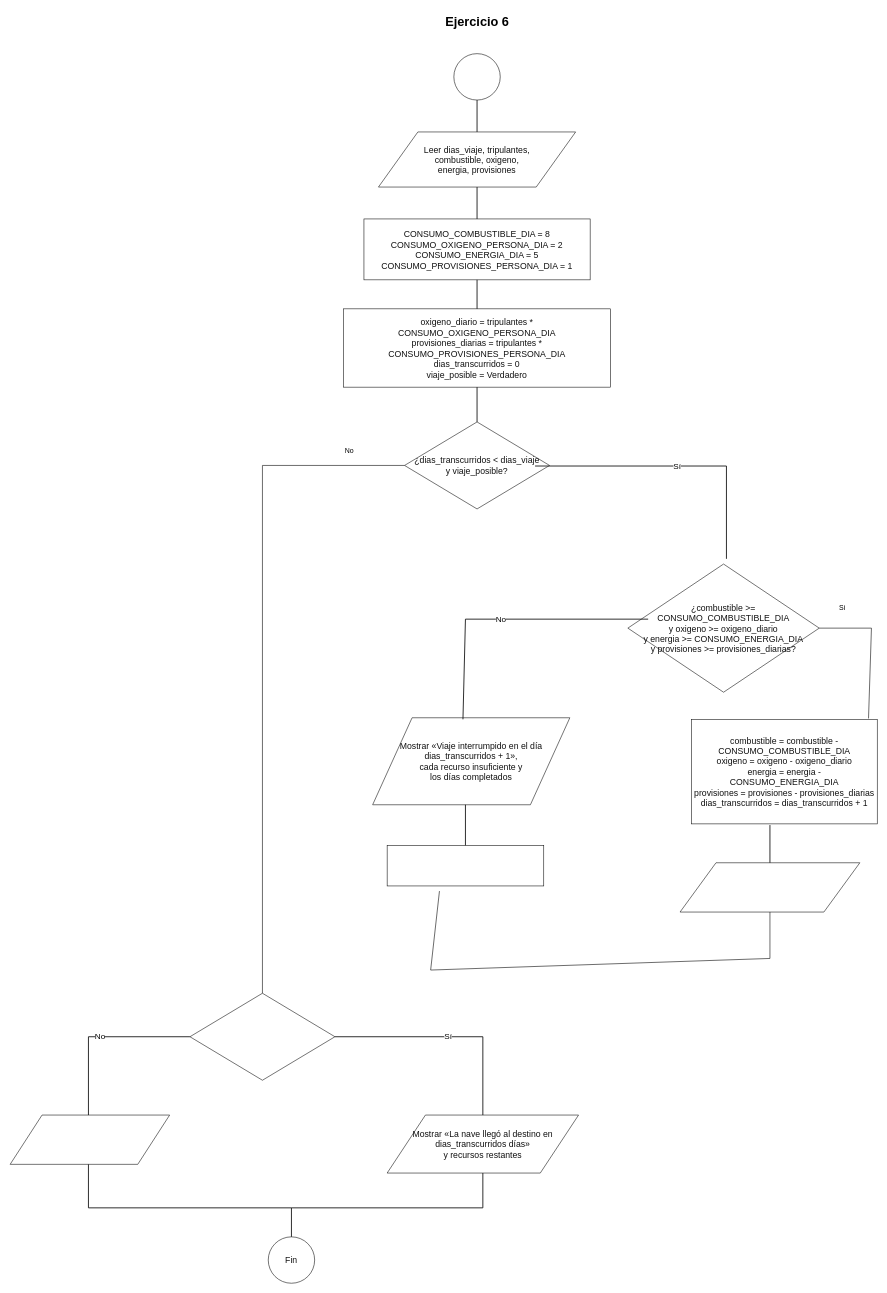
Some shapes in this 887 by 1293 pixel diagram are drawn without their labels. The shapes that lost their labels are listed below. From the top down, each one's centre as x and y in pixels, then its label:
At (x=476, y=76): "Inicio".
At (x=465, y=865): "viaje_posible = Falso".
At (x=769, y=887): "Mostrar día dias_transcurridos y los cuatro recursos restantes".
At (x=262, y=1036): "¿dias_transcurridos == dias_viaje?".
At (x=90, y=1139): "Mostrar «Viaje interrumpido» y días completados".
